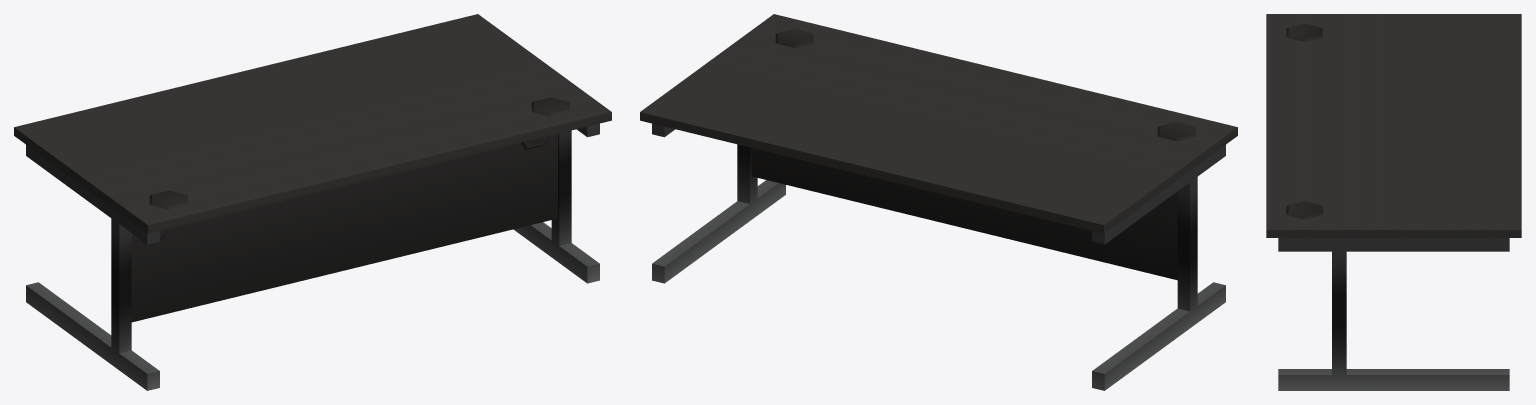
File: Table_OfficeDesk_Black.fbx
3 renders of one model, left to right at view 1: azimuth 30°, elevation 25°; view 2: azimuth 150°, elevation 25°; view 3: azimuth 270°, elevation 25°, orthographic. The views are drawn at different scales.
Parts seen in each view (by area): view 1: Table_OfficeDesk_Black; view 2: Table_OfficeDesk_Black; view 3: Table_OfficeDesk_Black.
Boxes of the visible parts, x1,y1,x2,y2 form: Table_OfficeDesk_Black: [14, 14, 611, 390]; Table_OfficeDesk_Black: [640, 14, 1237, 390]; Table_OfficeDesk_Black: [1266, 14, 1521, 390].
Bounding box in the file's own units: 207 × 74.14 × 104.
